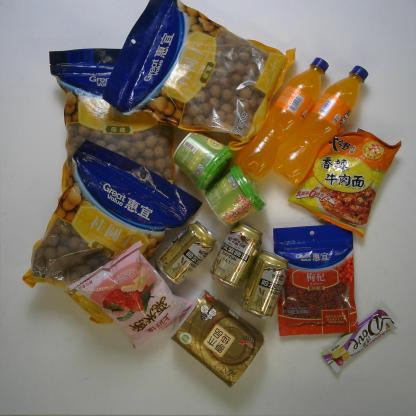Alcohol: (154, 219, 218, 286), (236, 249, 290, 322), (209, 221, 265, 291)
Chocolate: (321, 308, 398, 376)
Dried Food: (21, 139, 203, 325), (101, 0, 296, 153), (49, 45, 179, 203)
Dried Fruit: (272, 223, 359, 337)
Drink: (272, 64, 372, 188), (238, 57, 332, 180)
Instant Drink: (203, 161, 268, 228), (173, 128, 237, 194)
Instant Noodles: (286, 127, 404, 238)
Puffed Food: (69, 239, 194, 351)
Tissue: (170, 288, 265, 390)
